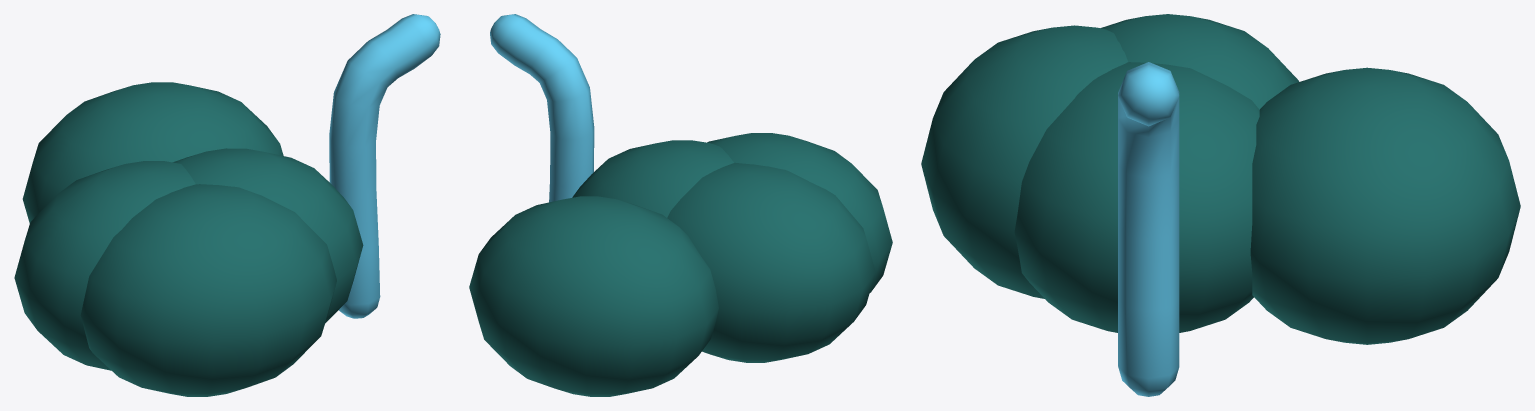
Rendered from moss_crop_growing.glb.
The picture shows the model from 3 angles, left to right: view 1: azimuth 30°, elevation 25°; view 2: azimuth 150°, elevation 25°; view 3: azimuth 270°, elevation 25°; orthographic projection. The views are drawn at different scales.
Parts seen in each view (by area): view 1: Mound.001, Mound.002, Mound.004, Curved_shoot, Mound; view 2: Mound.002, Mound.004, Curved_shoot, Mound.001, Mound; view 3: Mound.002, Mound, Mound.001, Curved_shoot, Mound.004.
Boxes of the visible parts, x1,y1,x2,y2 form: Mound.001: [80, 184, 336, 396]; Mound.002: [22, 82, 283, 223]; Mound.004: [14, 161, 195, 370]; Curved_shoot: [329, 14, 440, 318]; Mound: [173, 148, 363, 323]; Mound.002: [469, 196, 718, 396]; Mound.004: [667, 162, 875, 362]; Curved_shoot: [490, 14, 594, 202]; Mound.001: [707, 133, 892, 292]; Mound: [572, 140, 734, 217]; Mound.002: [1250, 67, 1520, 344]; Mound: [1014, 62, 1259, 332]; Mound.001: [921, 25, 1127, 298]; Curved_shoot: [1118, 62, 1179, 396]; Mound.004: [1100, 14, 1299, 109].
Size of the model in its own units: 0.3218 by 0.2208 by 0.3281.
